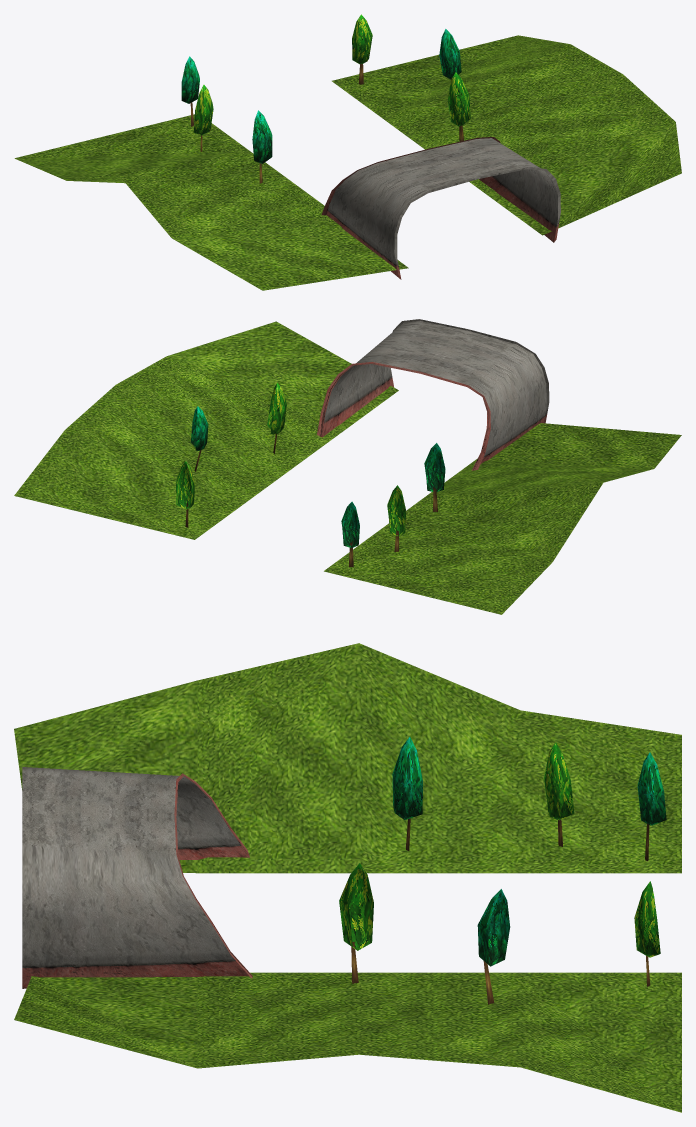
File: ny_tunnel_exit.fbx
3 views of the same model, one above another, from view 1: azimuth 30°, elevation 25°; view 2: azimuth 150°, elevation 25°; view 3: azimuth 270°, elevation 25° (orthographic). The views are drawn at different scales.
Visible parts, largest first — view 1: ny_tunnel_out, tree_near1; view 2: ny_tunnel_out, tree_near1; view 3: ny_tunnel_out, tree_near1.
Part boxes in pixels (x1=…): ny_tunnel_out: x1=14, y1=35, x2=681, y2=290; tree_near1: x1=181, y1=14, x2=470, y2=183; ny_tunnel_out: x1=14, y1=319, x2=681, y2=614; tree_near1: x1=176, y1=383, x2=445, y2=567; ny_tunnel_out: x1=14, y1=643, x2=681, y2=1112; tree_near1: x1=339, y1=736, x2=666, y2=1004.
Bounding box in the file's own units: 6860 × 1151 × 5124.
